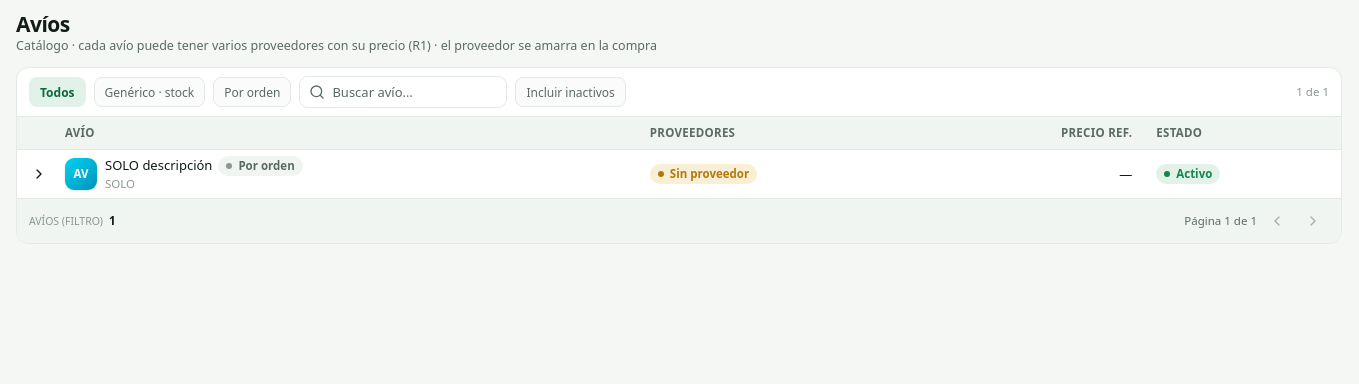
<AviosPagina> › muestra "sin proveedores" al expandir un avío sin proveedores
Step 1. Click the row with test id "fila-avio" → coordinates (679, 174), box [17, 149, 1341, 198]
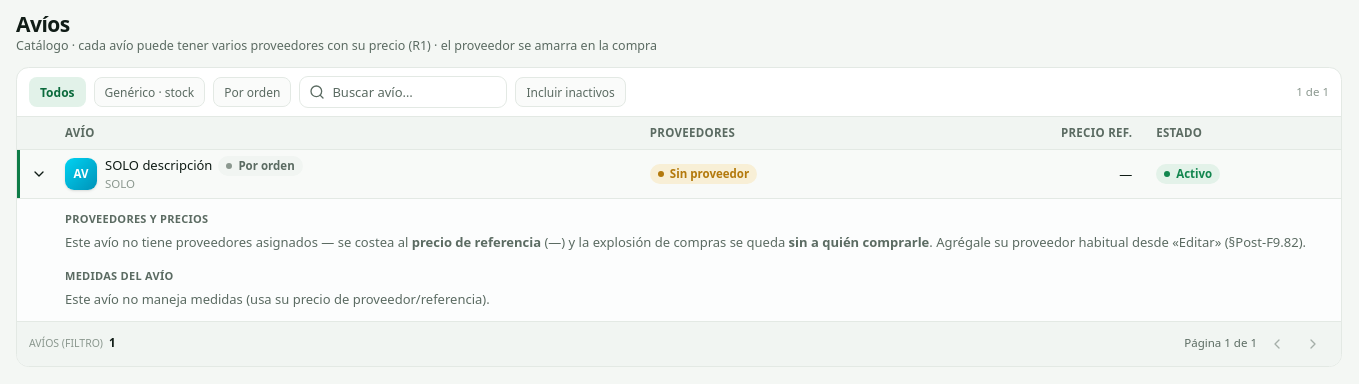
Now the element with test id "avio-sin-proveedores" is shown, box [65, 233, 1329, 252]
